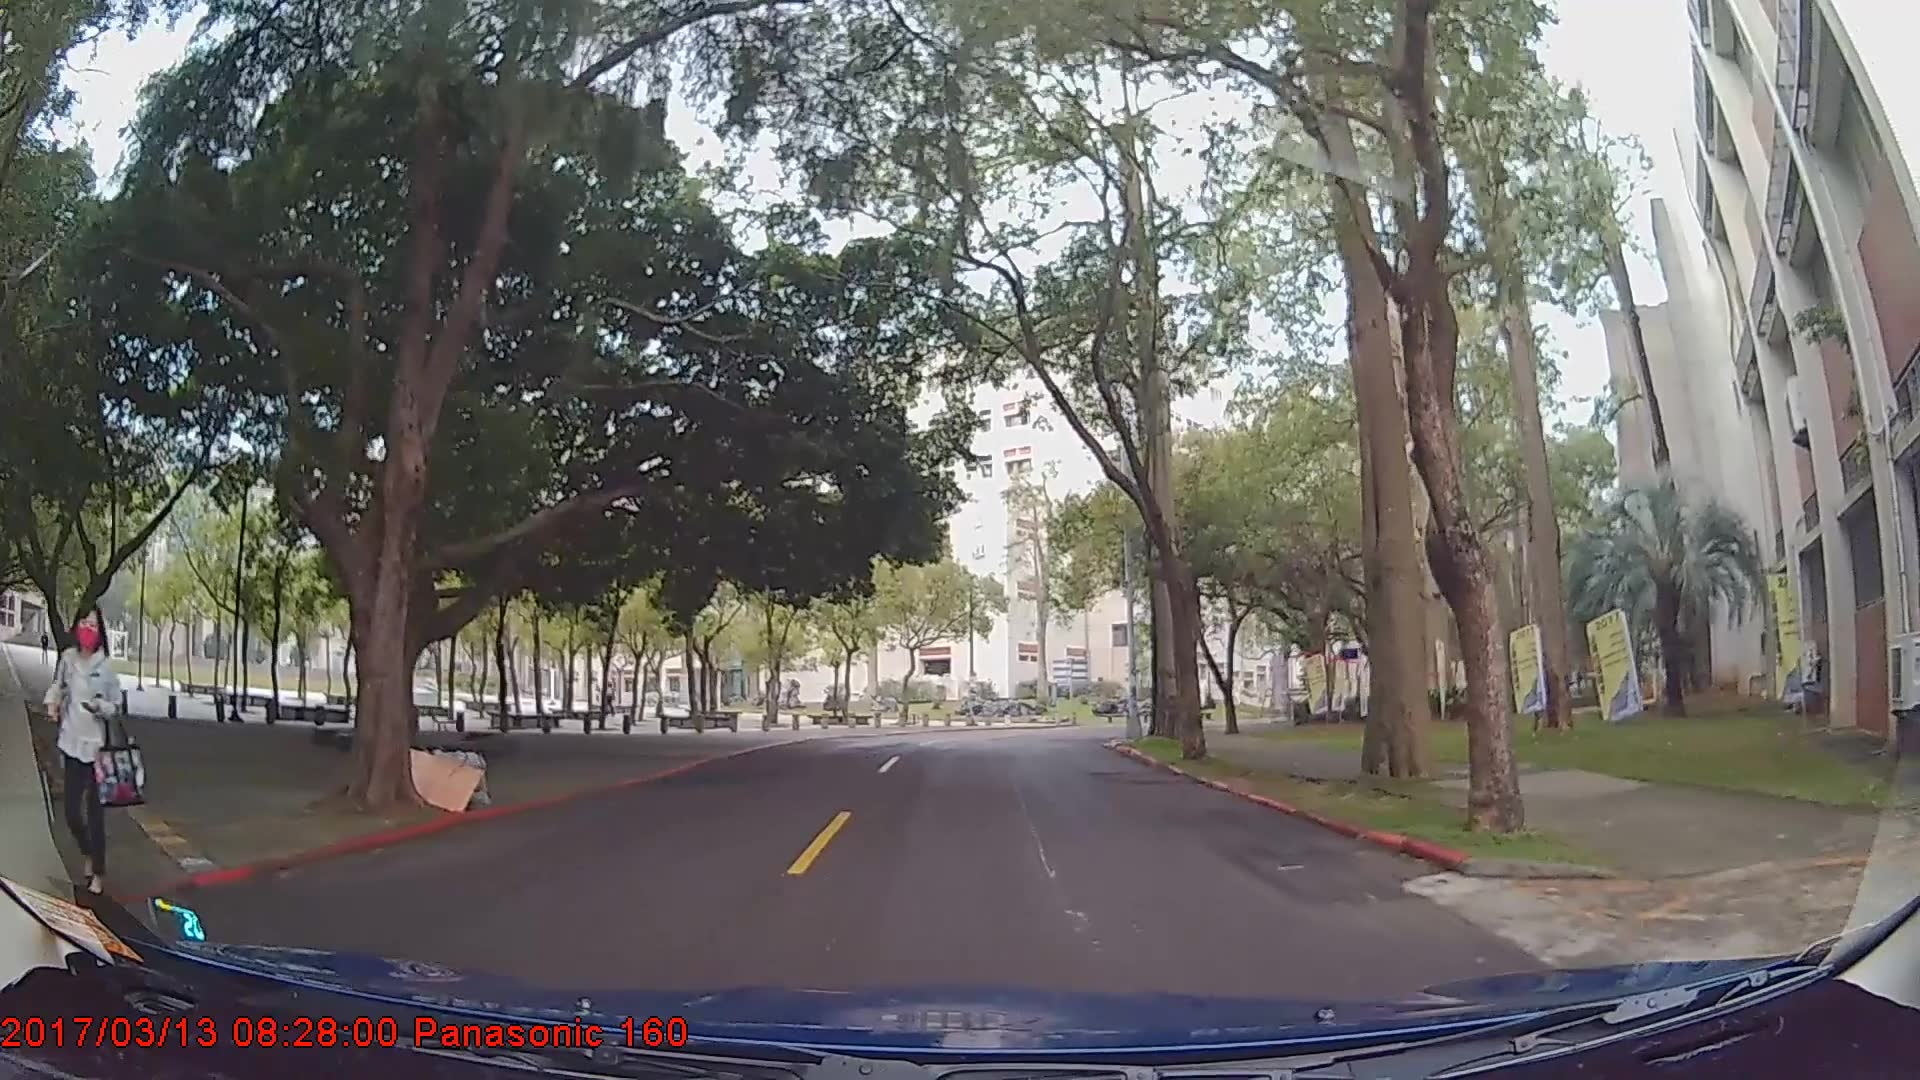pedestrian: (45, 599, 150, 895)
